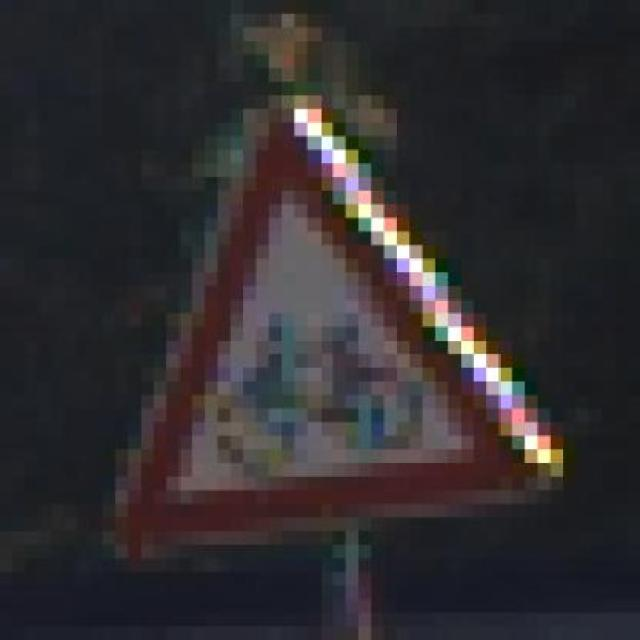CYCLE ROUTE AHEAD WARNING: (92, 88, 566, 564)
